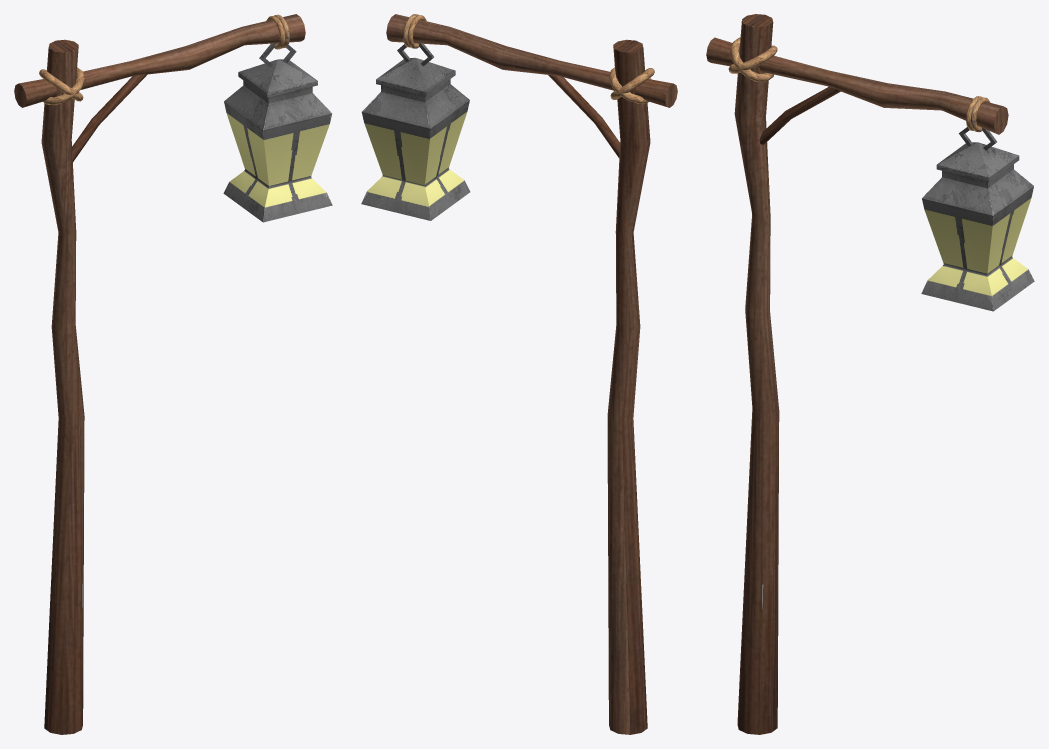
Rendered from HOS0810001.FBX.
The picture shows the model from 3 angles, left to right: view 1: azimuth 30°, elevation 25°; view 2: azimuth 150°, elevation 25°; view 3: azimuth 330°, elevation 25°; orthographic projection. The views are drawn at different scales.
Parts seen in each view (by area): view 1: smHOS0810001; view 2: smHOS0810001; view 3: smHOS0810001.
Boxes of the visible parts, left/top/right/bottom form: smHOS0810001: left=14, top=14, right=332, bottom=734; smHOS0810001: left=361, top=14, right=677, bottom=734; smHOS0810001: left=706, top=14, right=1034, bottom=734.
Size of the model in its own units: 124 by 277 by 29.25.
Materials: 1 (1 with a texture image).
